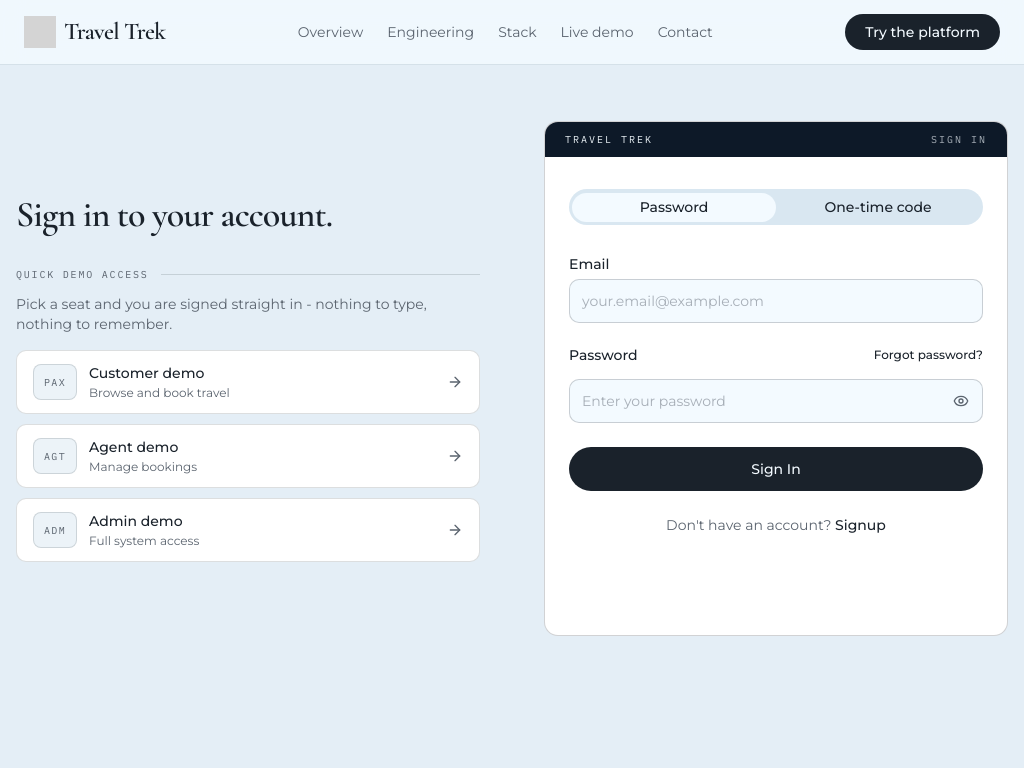
LoginPage 2FA step › returns to the credential tabs from the code step
The width and height of the screenshot is (1024, 768).
Type "amina@example.com" into the field labelled "Email" at (776, 301), box [569, 279, 983, 323]
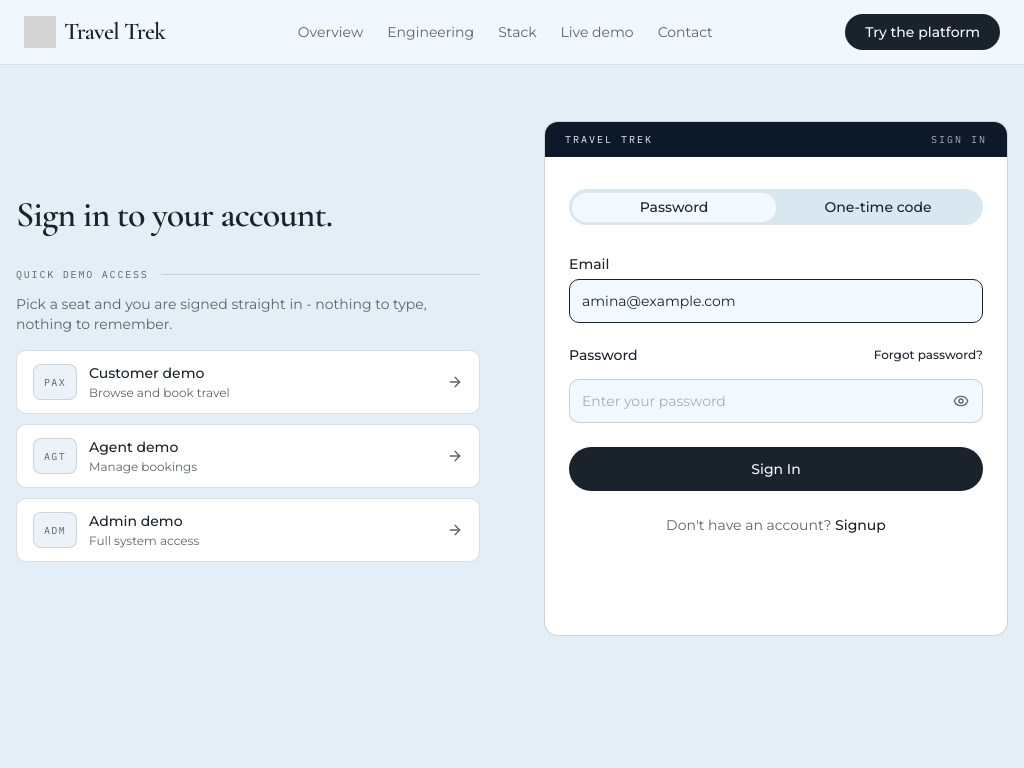
Type "secret" into the password field labelled "Password" at (776, 401), box [569, 379, 983, 423]
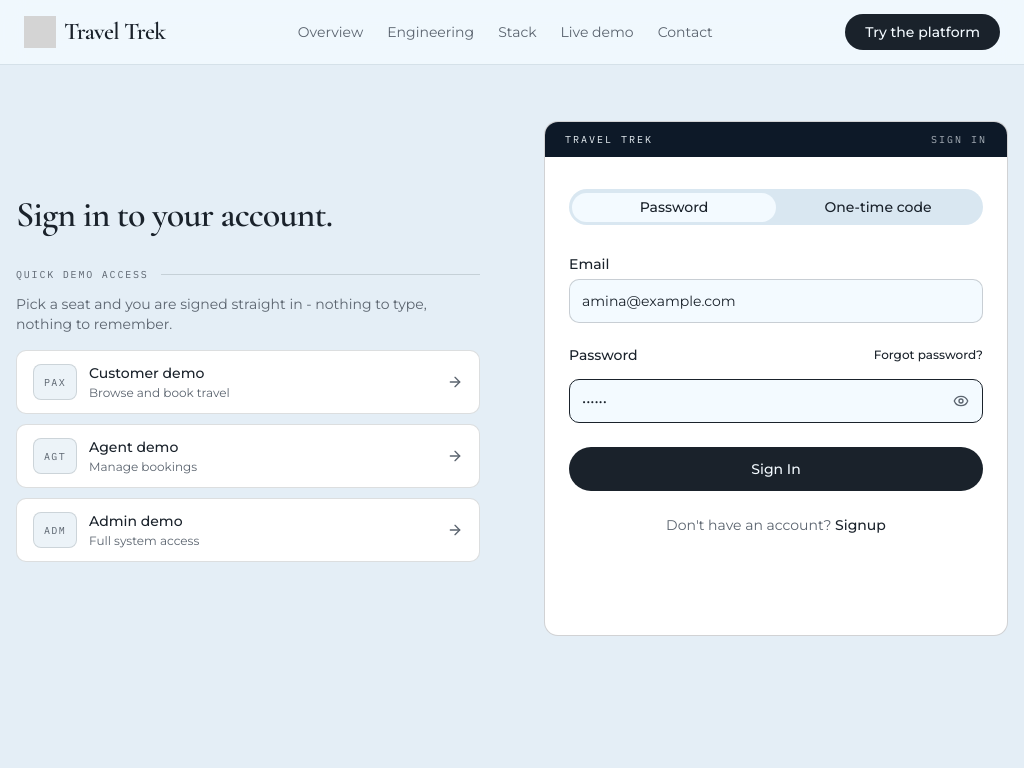
Click the button "Sign In" at (776, 469), box [569, 447, 983, 491]
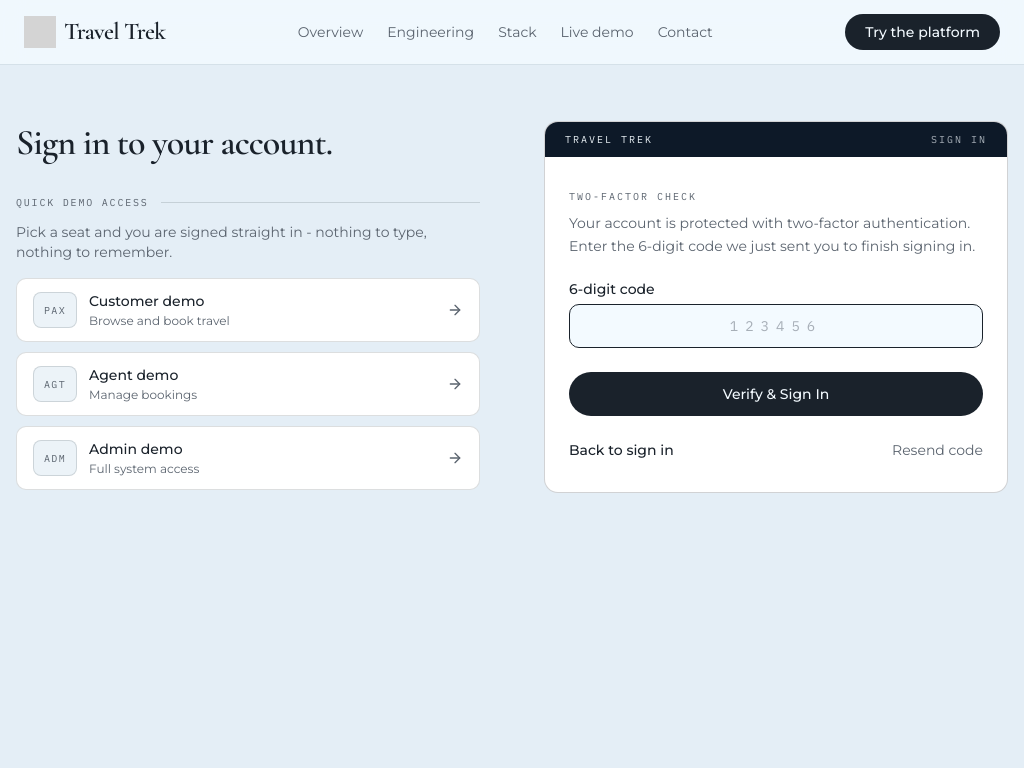
Check: the field labelled "6-digit code" is shown, box [569, 304, 983, 348]
Click the button "Back to sign in" at (621, 450), box [569, 440, 674, 460]
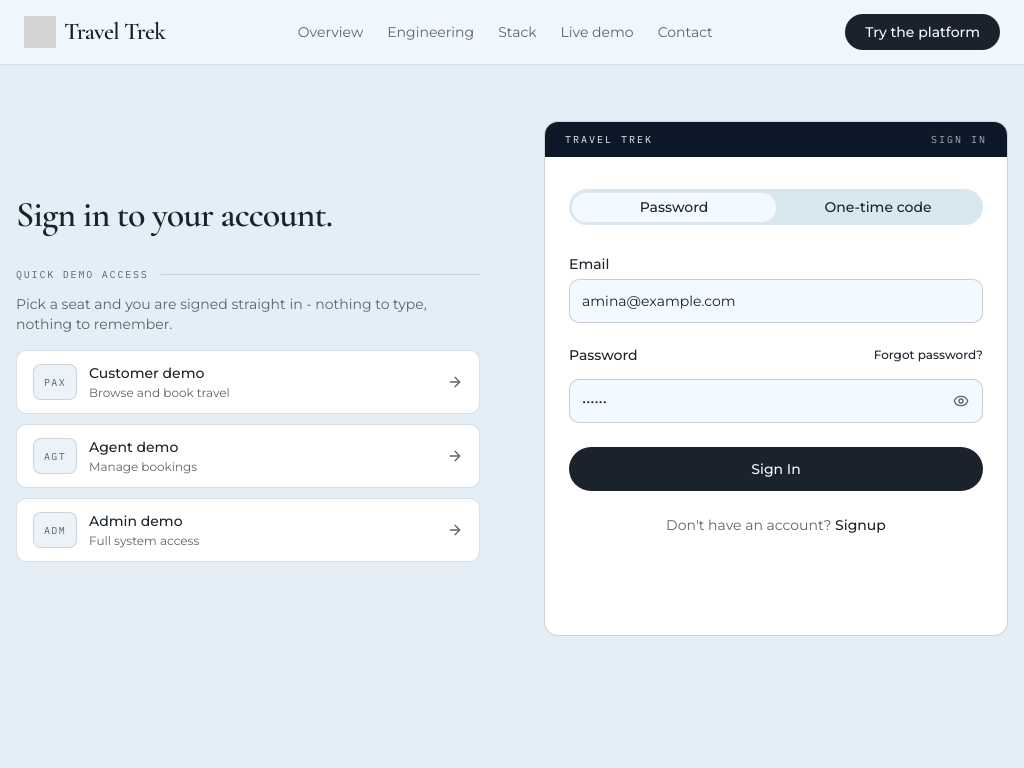
Check: the field labelled "Email" is shown, box [569, 279, 983, 323]
Check: the text labelled "6-digit code" is gone
